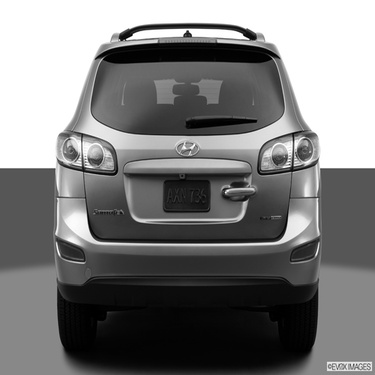car: (40, 11, 355, 340)
